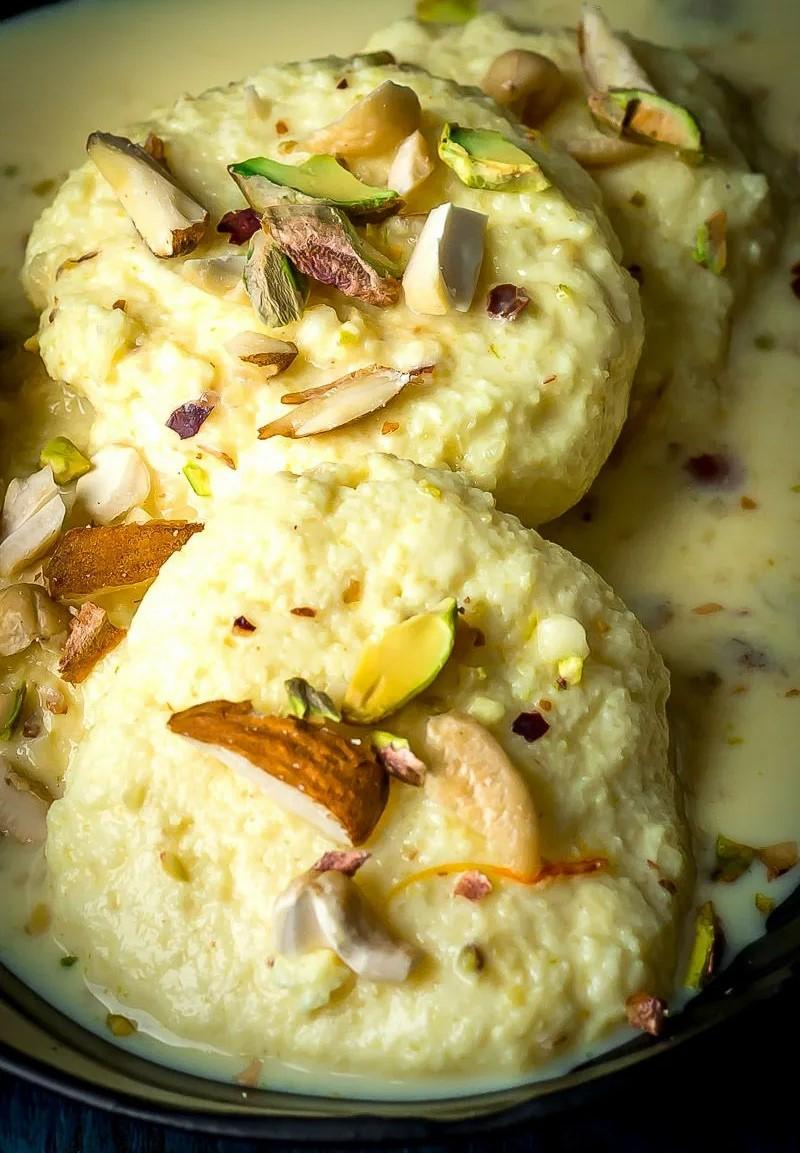RasMalai: (0, 0, 800, 1084)
